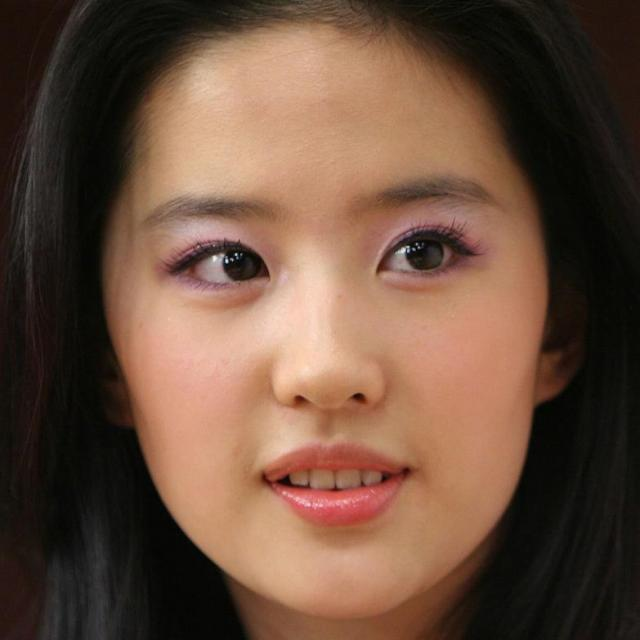surprised: (114, 30, 548, 596)
